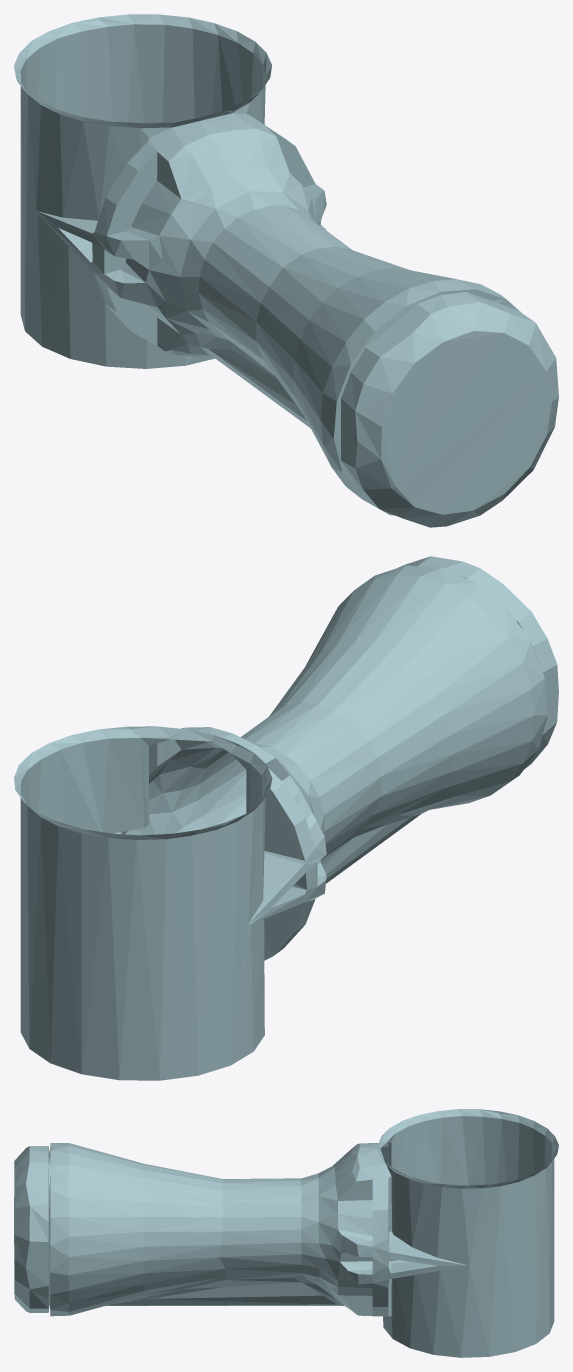
3 views of the same model, one above another, from view 1: azimuth 30°, elevation 25°; view 2: azimuth 150°, elevation 25°; view 3: azimuth 270°, elevation 25° (orthographic). The views are drawn at different scales.
Parts seen in each view (by area): view 1: link4; view 2: link4; view 3: link4.
Part boxes in pixels (<box>): link4: <box>14,14,558,527</box>; link4: <box>14,556,558,1080</box>; link4: <box>14,1109,558,1357</box>.
Size of the model in its own units: 0.1042 by 0.1108 by 0.3137.
